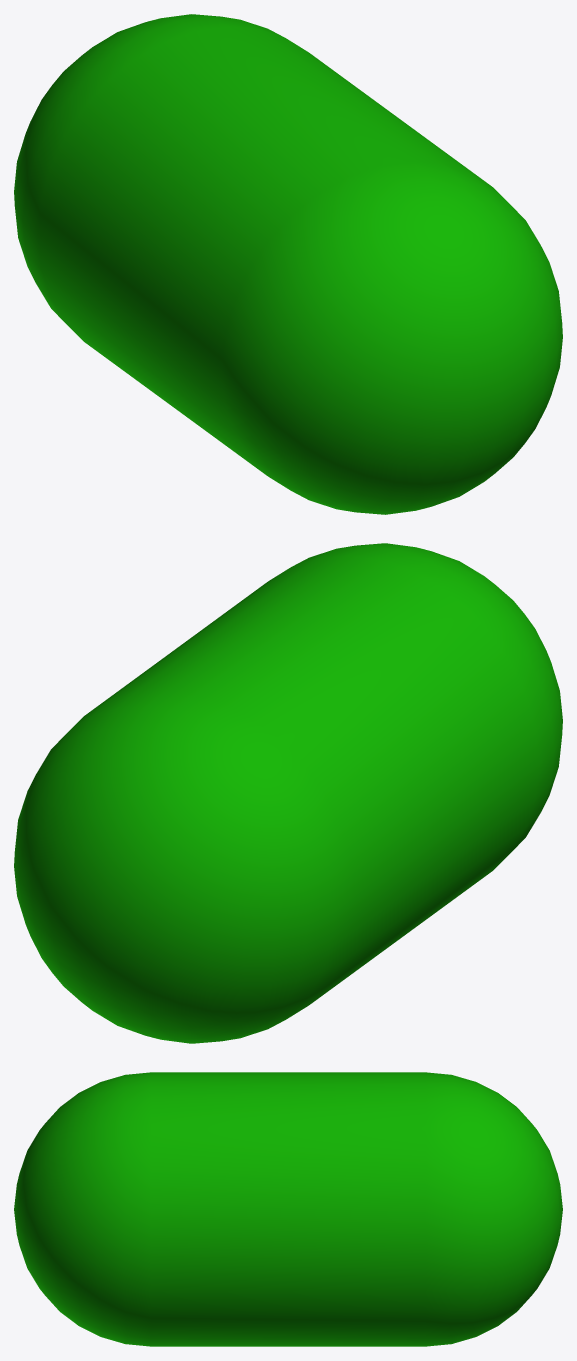
Rendered from Bush_PH.fbx.
3 renders of one model, top to bottom at view 1: azimuth 30°, elevation 25°; view 2: azimuth 150°, elevation 25°; view 3: azimuth 270°, elevation 25°, orthographic. The views are drawn at different scales.
Parts seen in each view (by area): view 1: Bush; view 2: Bush; view 3: Bush.
Part boxes in pixels (<box>): Bush: <box>14,14,562,514</box>; Bush: <box>14,543,562,1043</box>; Bush: <box>14,1072,562,1346</box>.
Size of the model in its own units: 100 by 100 by 200.
